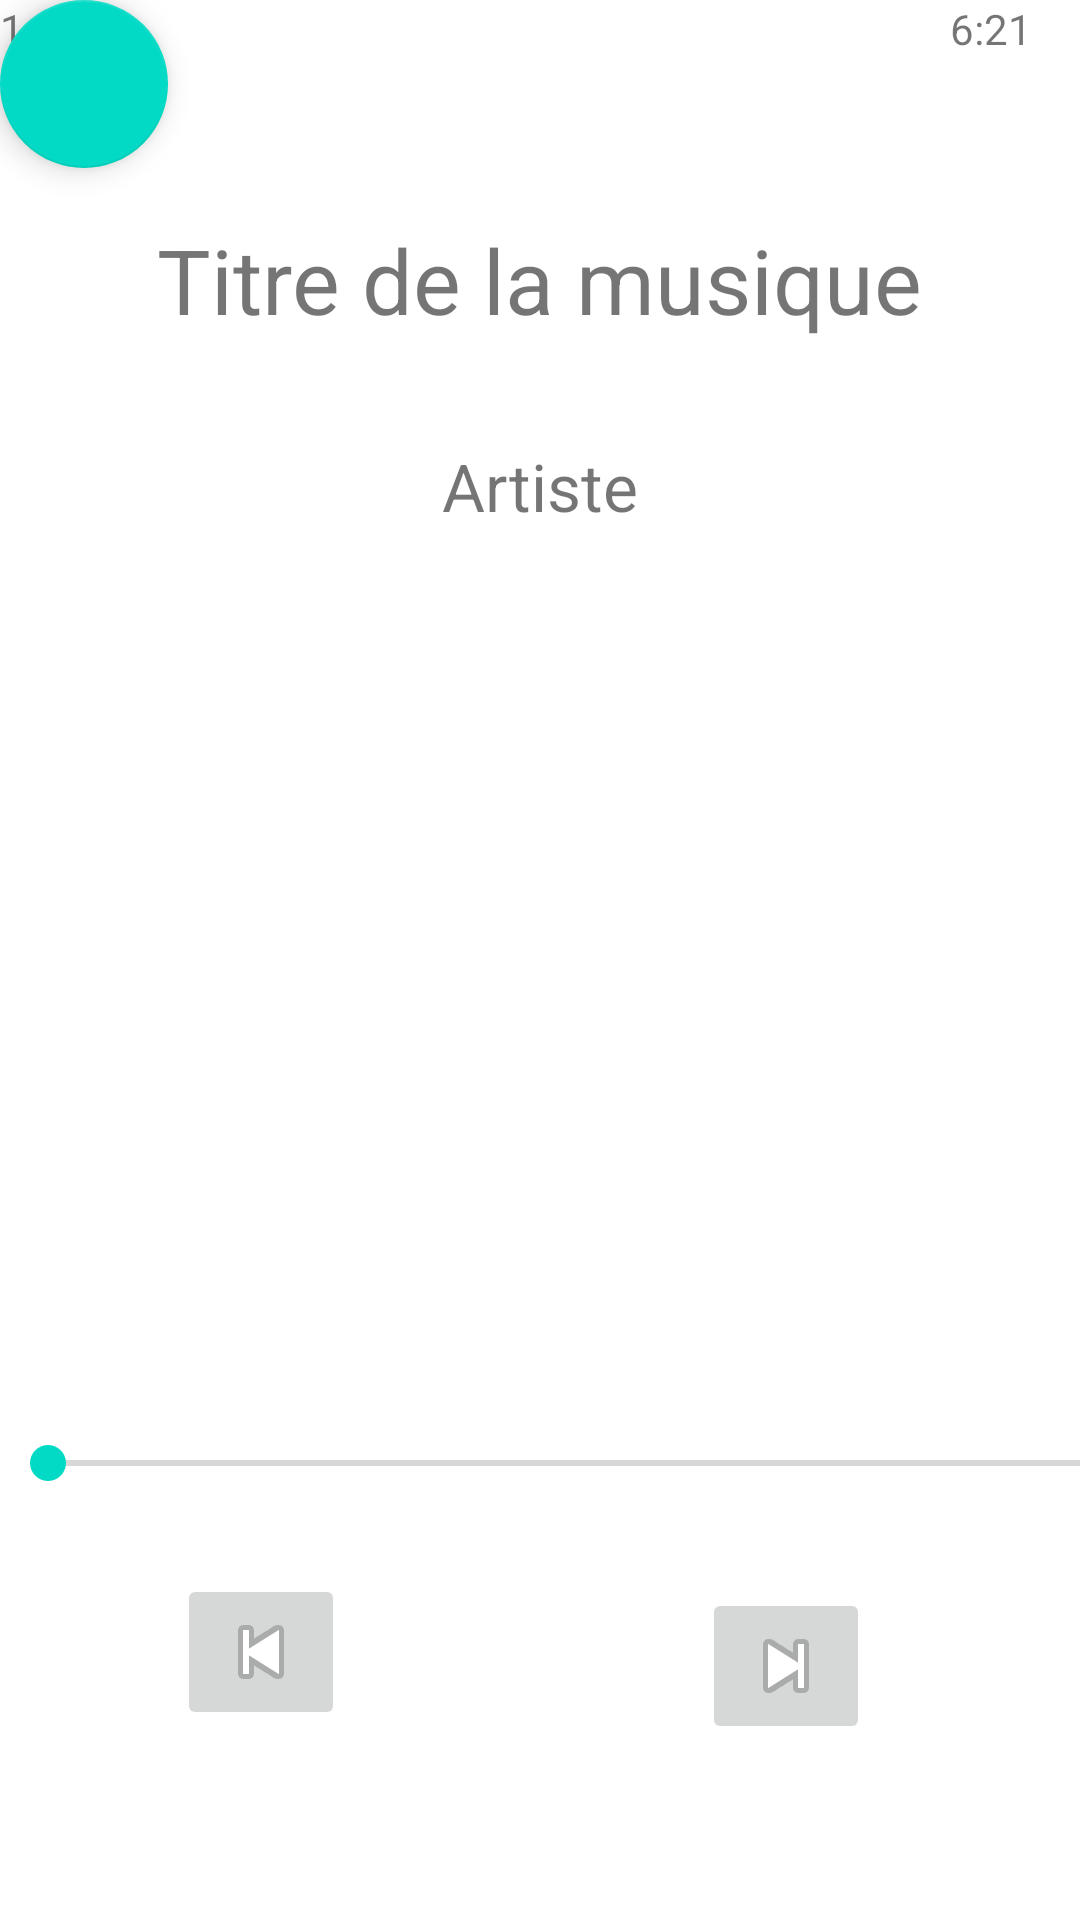

Where icons sit on this 1080×1920 app screen, as (x1, y1, x2, y2):
next: (714, 1606, 858, 1726)
previous: (189, 1592, 333, 1712)
